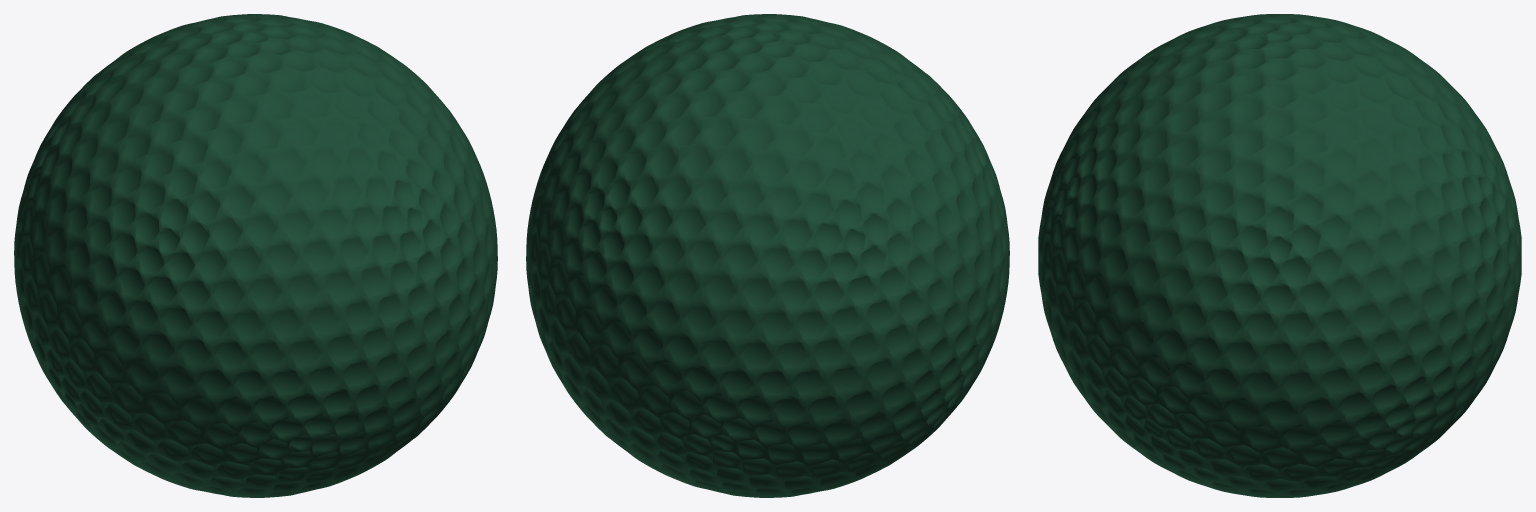
The model's file is golfball.glb.
3 renders of one model, left to right at view 1: azimuth 30°, elevation 25°; view 2: azimuth 150°, elevation 25°; view 3: azimuth 270°, elevation 25°, orthographic.
Parts seen in each view (by area): view 1: Icosphere; view 2: Icosphere; view 3: Icosphere.
Part boxes in pixels (bbox=[...]): Icosphere: bbox=[14, 14, 497, 497]; Icosphere: bbox=[526, 14, 1009, 497]; Icosphere: bbox=[1038, 14, 1521, 497].
Size of the model in its own units: 1.98 by 1.99 by 1.98.
